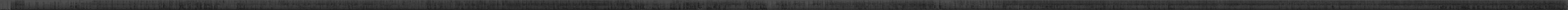Moan: (1332, 0, 1335, 10), (1513, 0, 1516, 10), (75, 0, 77, 10), (864, 0, 866, 10), (934, 0, 936, 10)
